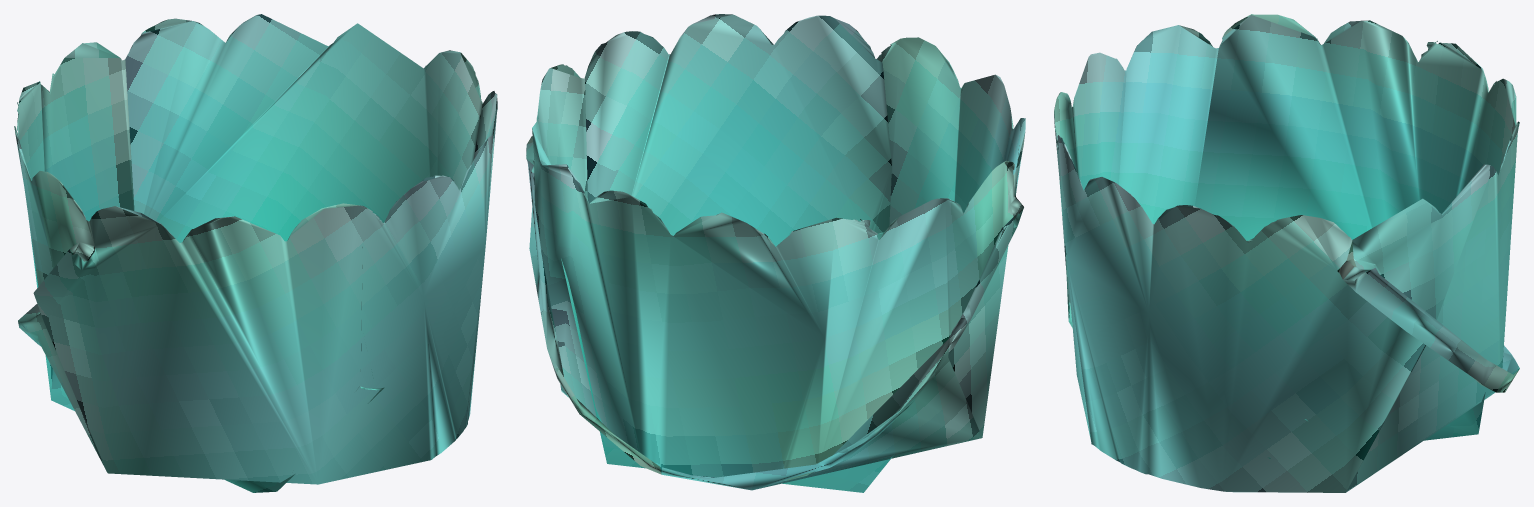
File: Spritz_Easter_Basket_Plastic_Teal-low.glb
The picture shows the model from 3 angles, left to right: view 1: azimuth 30°, elevation 25°; view 2: azimuth 150°, elevation 25°; view 3: azimuth 270°, elevation 25°; orthographic projection.
Visible parts, largest first — view 1: Spritz_Easter_Basket_Plastic_Teal; view 2: Spritz_Easter_Basket_Plastic_Teal; view 3: Spritz_Easter_Basket_Plastic_Teal.
Boxes of the visible parts, <box> form: Spritz_Easter_Basket_Plastic_Teal: <box>14,14,497,492</box>; Spritz_Easter_Basket_Plastic_Teal: <box>526,14,1025,492</box>; Spritz_Easter_Basket_Plastic_Teal: <box>1054,14,1519,492</box>.
Size of the model in its own units: 0.1908 by 0.1278 by 0.1813.
1 material, 1 textured.
